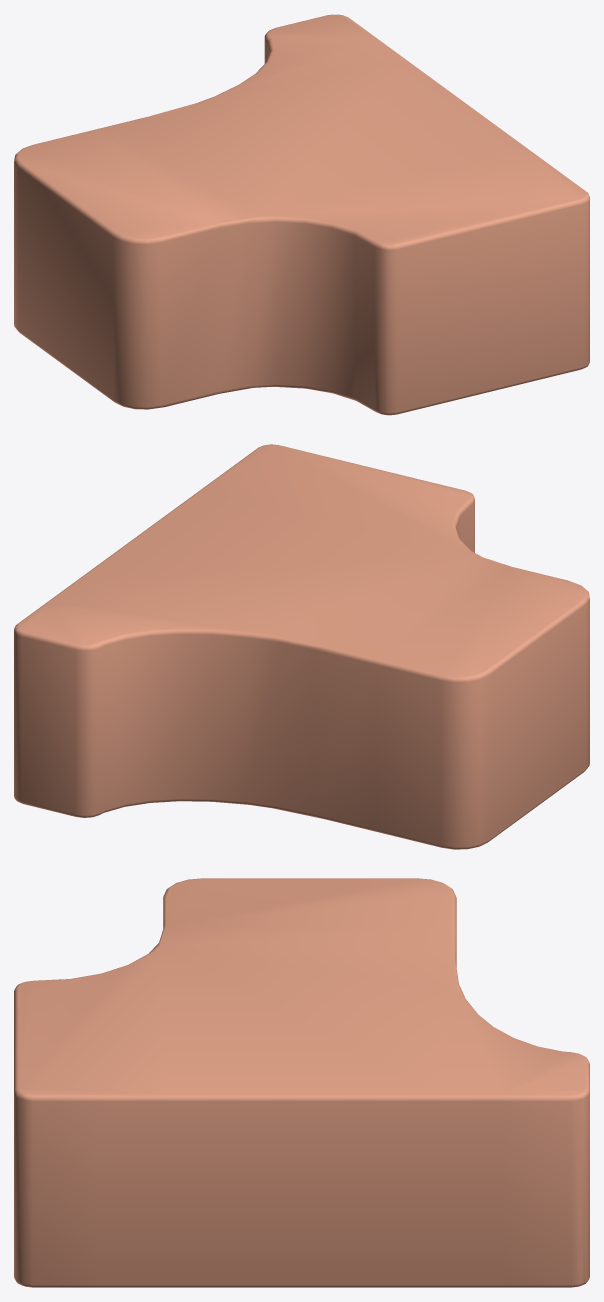
The model's file is island_lv10_2.fbx.
3 renders of one model, top to bottom at view 1: azimuth 30°, elevation 25°; view 2: azimuth 150°, elevation 25°; view 3: azimuth 270°, elevation 25°, orthographic. The views are drawn at different scales.
Parts seen in each view (by area): view 1: island_lv10_2; view 2: island_lv10_2; view 3: island_lv10_2.
Part boxes in pixels (x1,y1,x2,y2): island_lv10_2: (14,14,589,415); island_lv10_2: (14,444,589,849); island_lv10_2: (14,878,589,1287).
Size of the model in its own units: 1228 by 500 by 1357.
